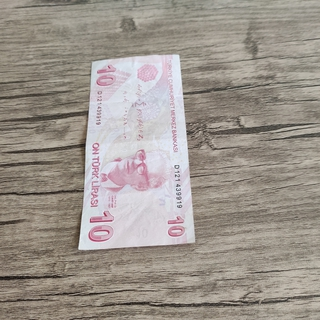10TLBack: (76, 53, 196, 250)
